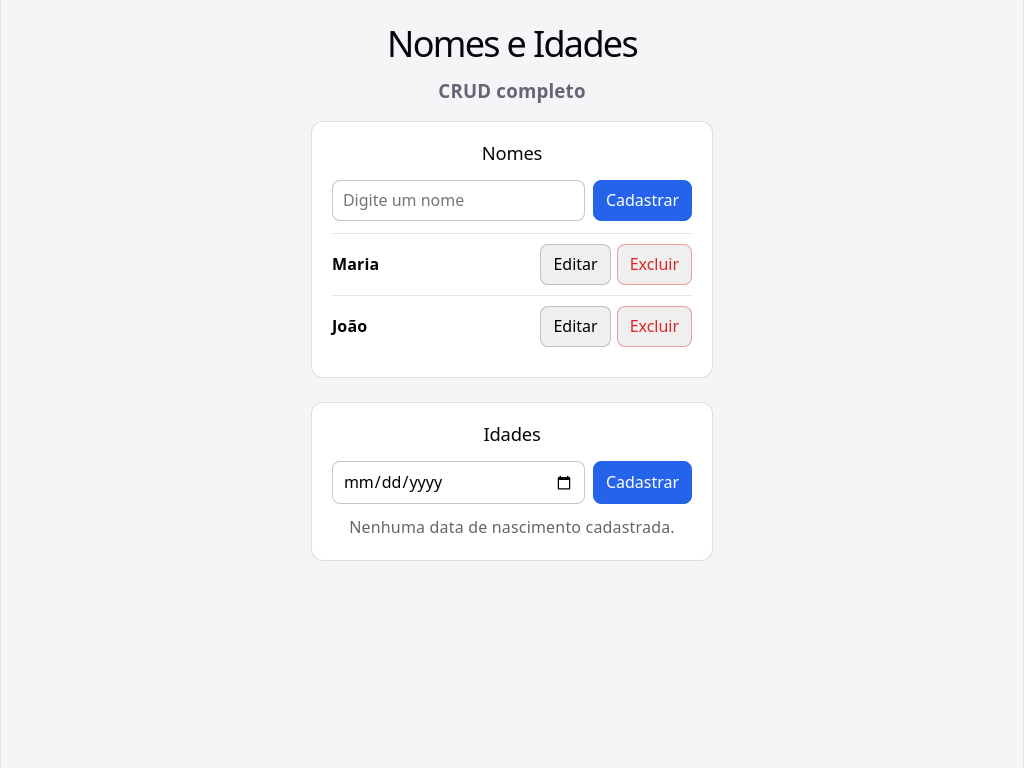
nomes (CRUD) › exclui um nome depois de confirmar
Check: the text "Maria" is shown, box x1=332 y1=253 x2=379 y2=276
Click the button "Excluir" in the row of "Maria": (654, 265) x1=617 y1=244 x2=692 y2=285
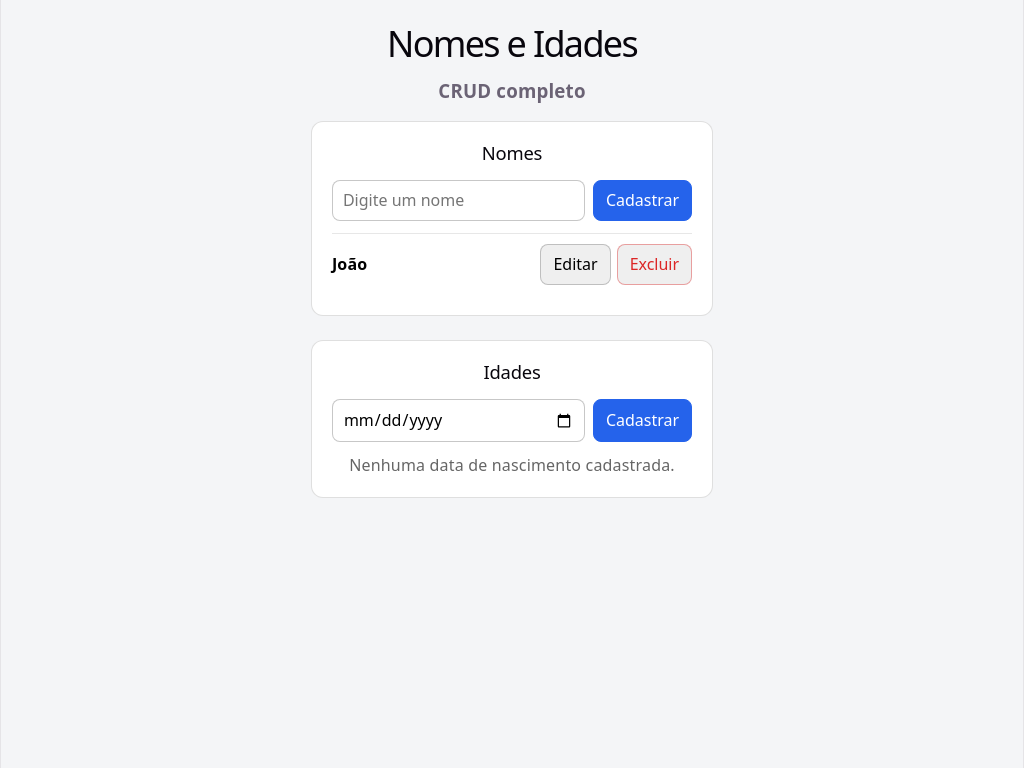
Check: the text "João" is shown, box x1=332 y1=253 x2=367 y2=276
Check: the text "Maria" is gone
